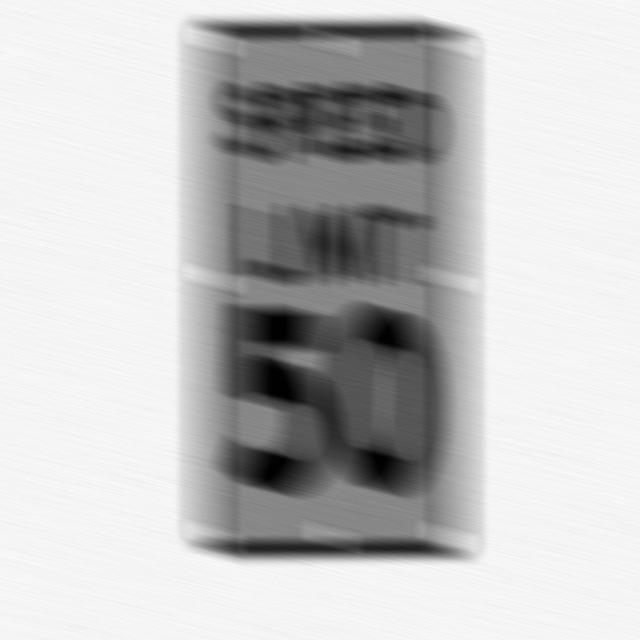speedLimit50: (192, 18, 462, 562)
